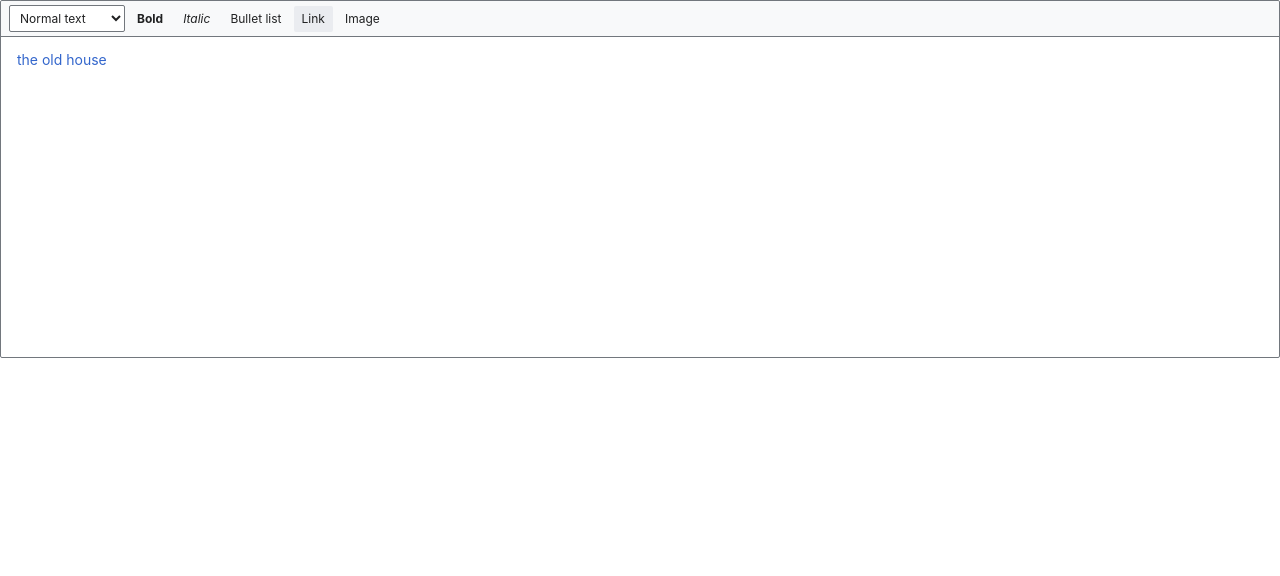
Scenario: linking to another entry › names the entry a link already points at
Click the button "Link". click: (313, 18)
box: [294,6,333,32]
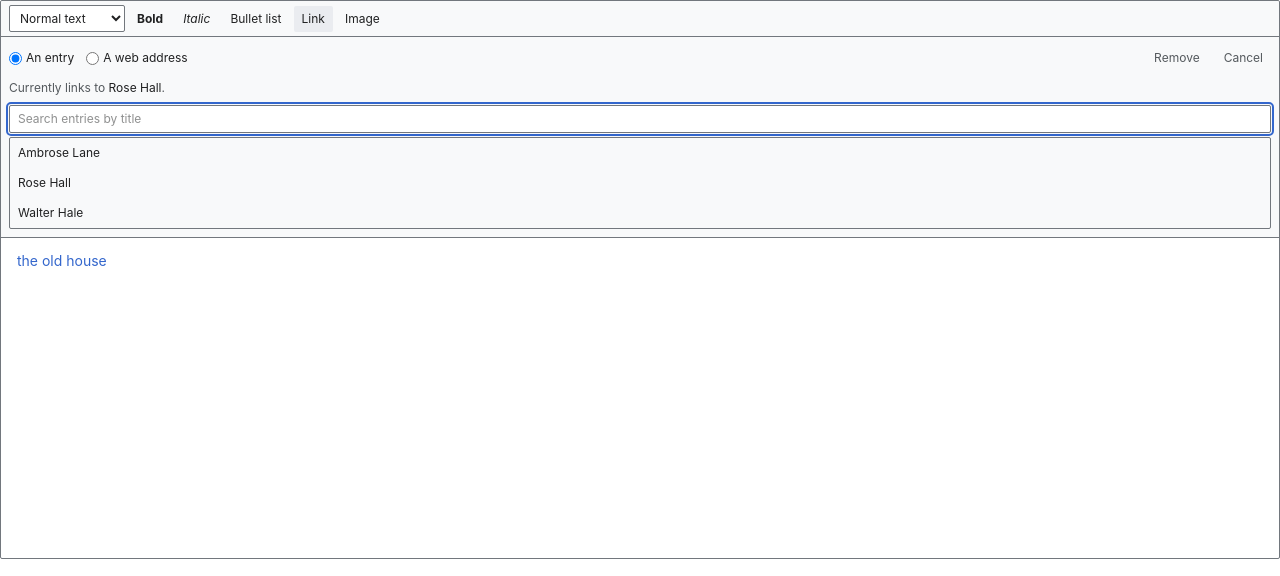
expect the text "Currently links to" is shown: met, box [9,80,105,95]
expect the text "Rose Hall" is shown: met, box [109,80,162,95]
